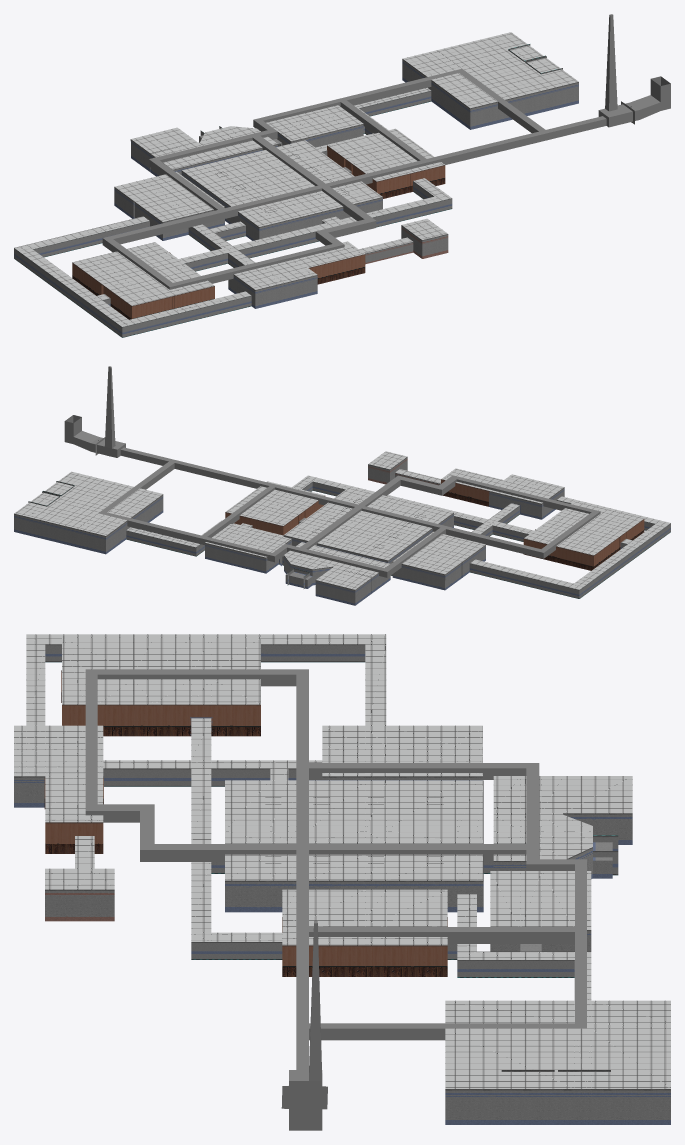
File: lab-2-floor.glb
3 views of the same model, one above another, from view 1: azimuth 30°, elevation 25°; view 2: azimuth 150°, elevation 25°; view 3: azimuth 270°, elevation 25° (orthographic). The views are drawn at different scales.
Visible parts, largest first — view 1: walls, ventilation; view 2: walls, ventilation; view 3: walls, ventilation.
Part boxes in pixels (x1,y1,x2,y2): walls: [14, 32, 578, 337]; ventilation: [102, 14, 670, 289]; walls: [14, 451, 670, 605]; ventilation: [64, 366, 600, 577]; walls: [14, 634, 670, 1124]; ventilation: [85, 669, 586, 1130].
Size of the model in its own units: 121 by 21.96 by 66.07.
Materials: 9 (6 with a texture image).
